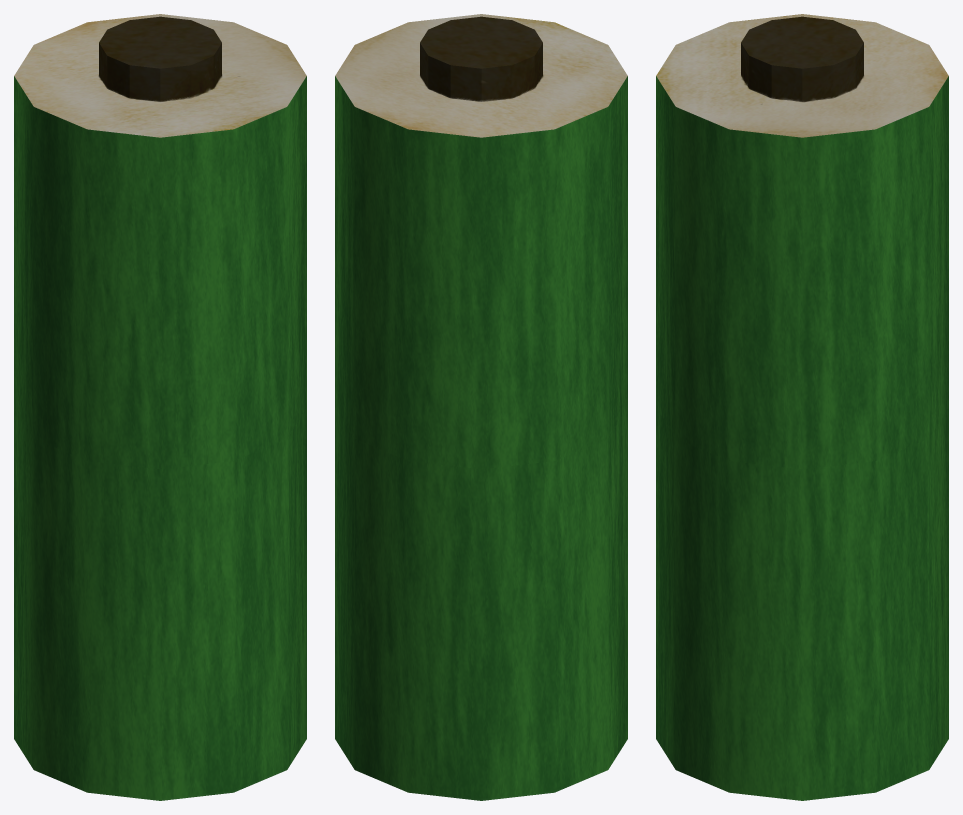
File: Scroll.FBX
3 renders of one model, left to right at view 1: azimuth 30°, elevation 25°; view 2: azimuth 150°, elevation 25°; view 3: azimuth 270°, elevation 25°, orthographic.
Parts seen in each view (by area): view 1: Cylinder001; view 2: Cylinder001; view 3: Cylinder001.
Boxes of the visible parts, box(x1,y1,x2,y2) form: Cylinder001: box(14, 14, 306, 800); Cylinder001: box(335, 14, 627, 800); Cylinder001: box(656, 14, 948, 800).
Size of the model in its own units: 4 by 11 by 4.
1 material, 1 textured.
